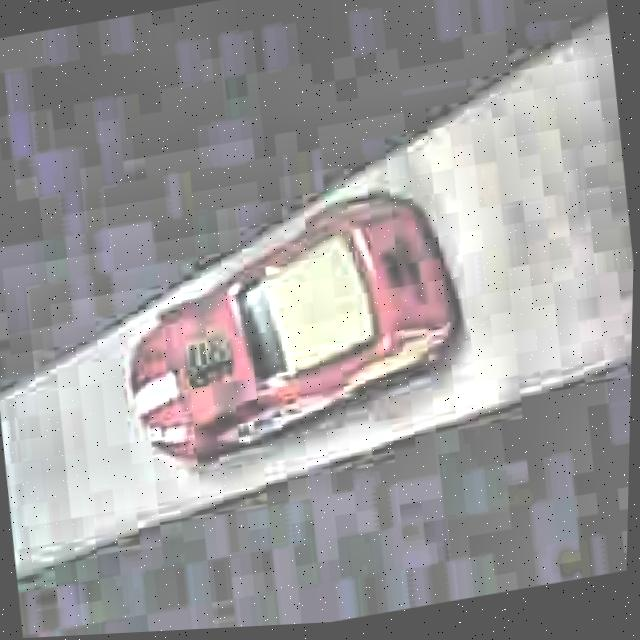car: (103, 175, 479, 478)
